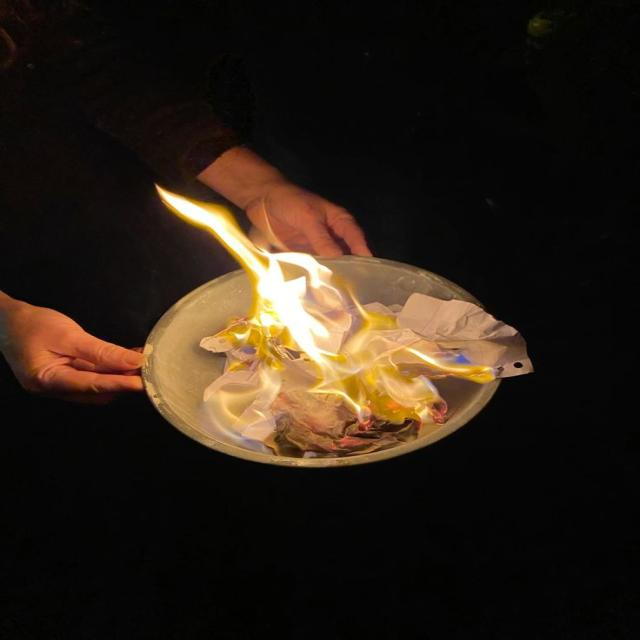fire: (149, 181, 333, 367)
